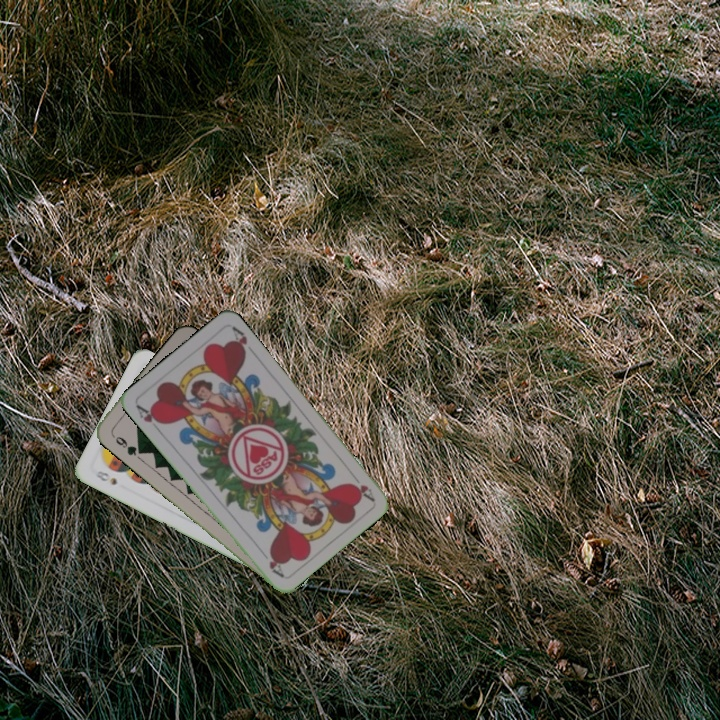G9: (111, 432, 144, 458)
HA: (132, 401, 166, 435), (346, 469, 377, 504)
S8: (91, 466, 120, 488)
